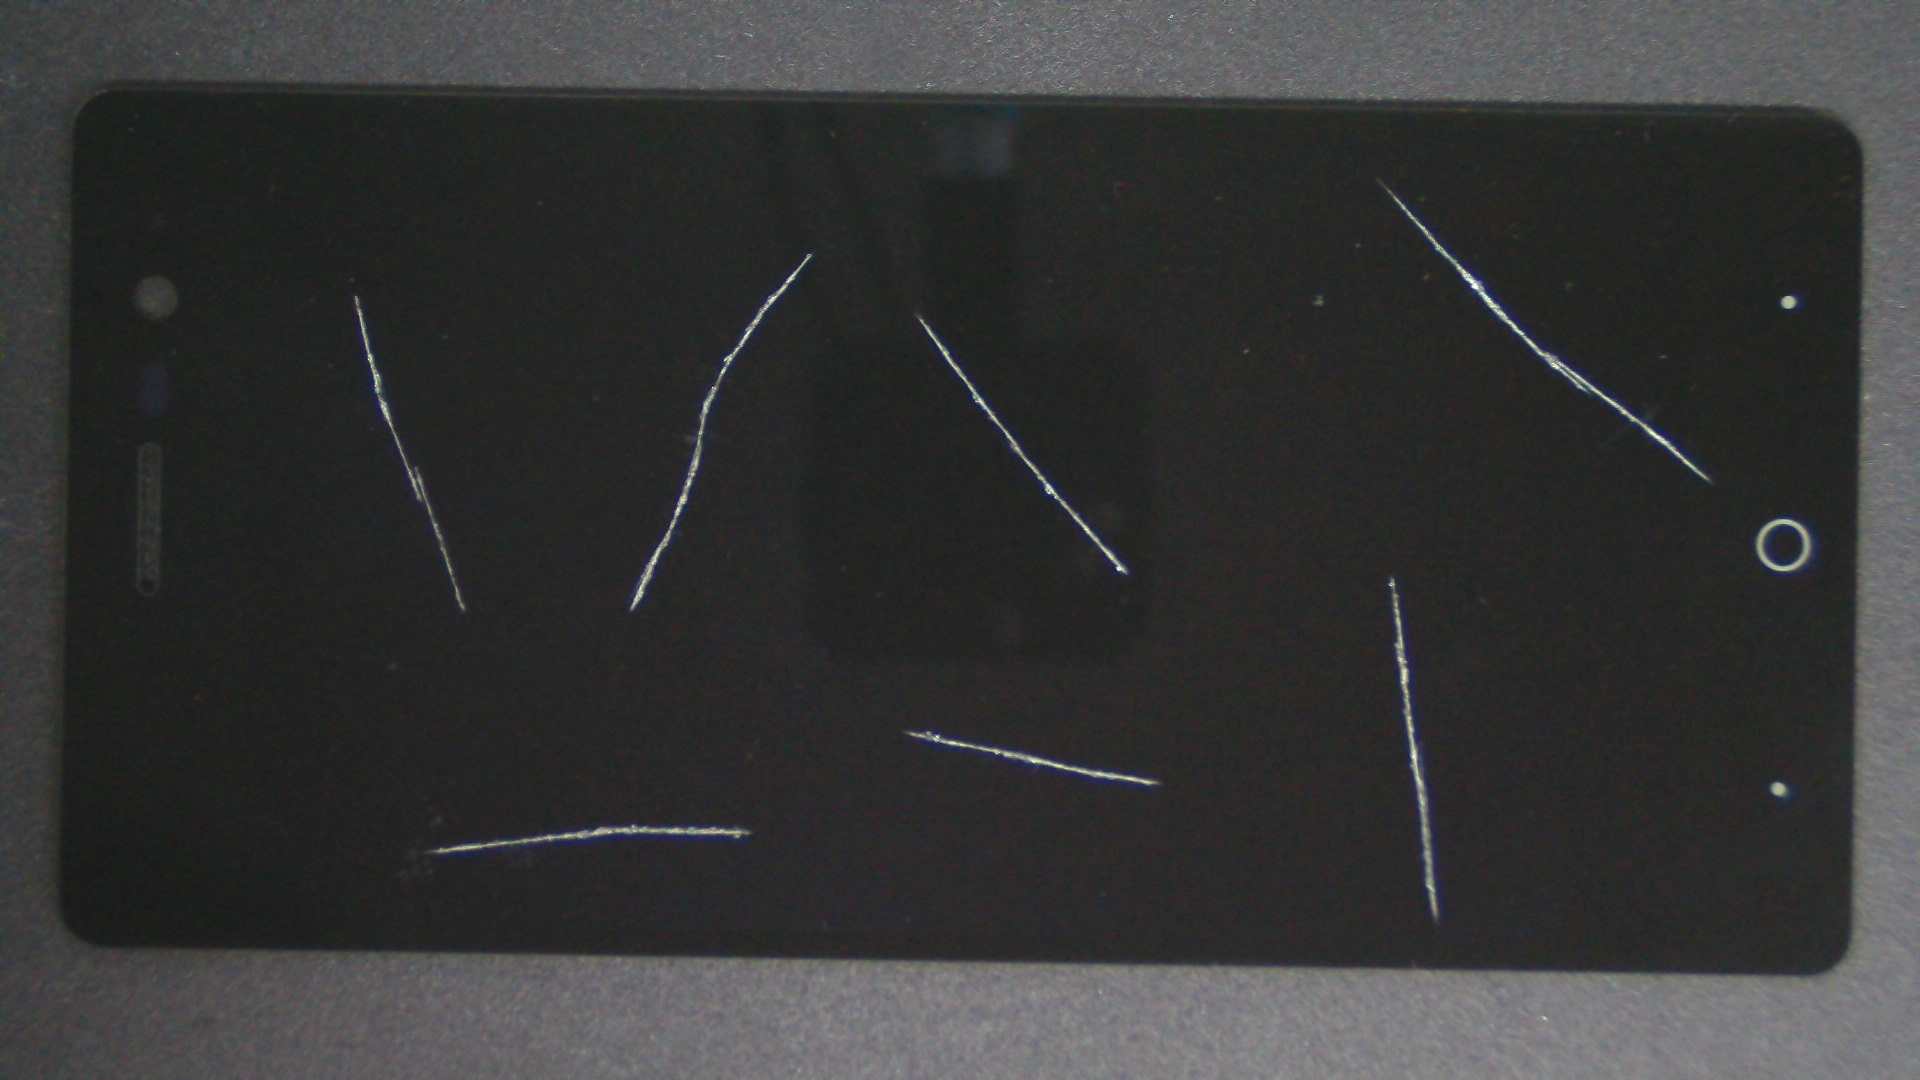oil: (694, 287, 1920, 865), (451, 363, 1354, 1080), (315, 411, 944, 1080), (459, 157, 1375, 473), (691, 91, 1920, 276), (406, 125, 1217, 378), (178, 146, 531, 442)
